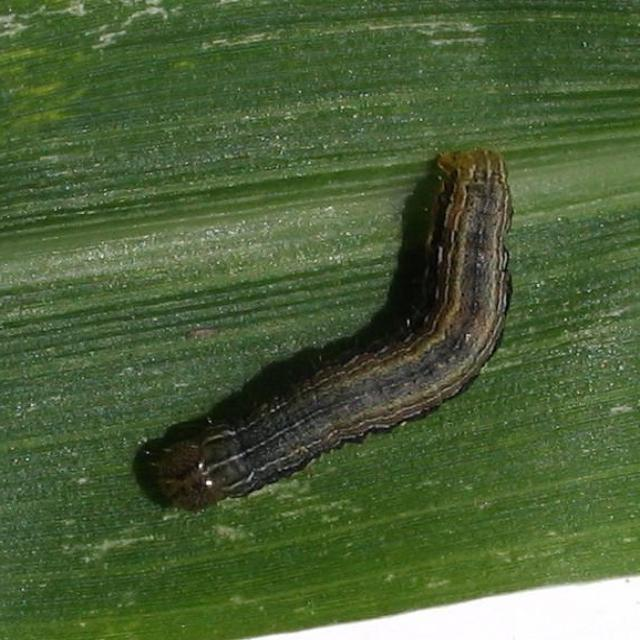army worm: (129, 142, 533, 519)
